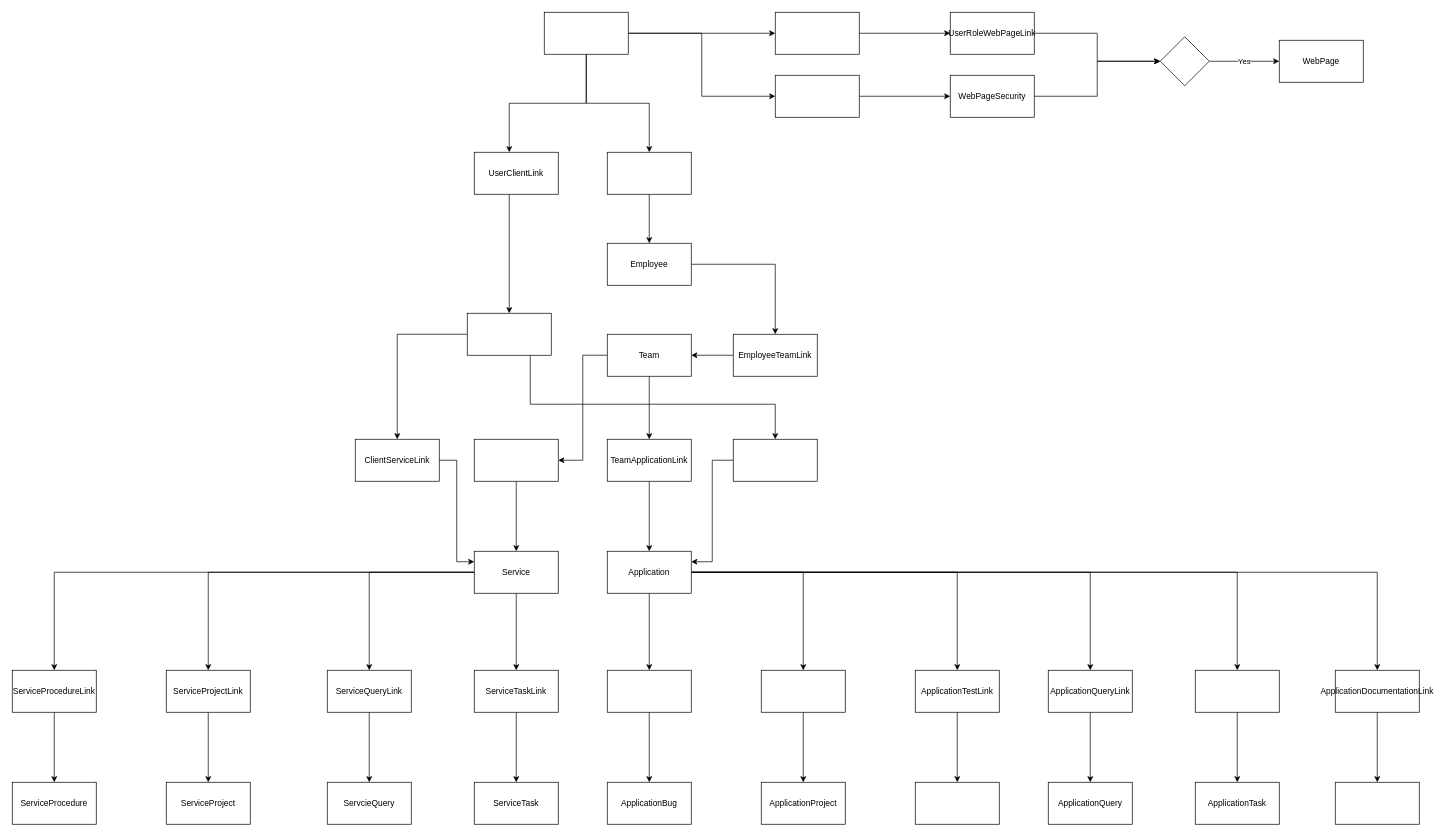
This 1446x837 diagram has some shape labels left out. The centre of each missing label's shape, as x and y in pixels:
ApplicationBugLink: point (649, 691)
ApplicationDocumentation: point (1377, 803)
ApplicationProjectLink: point (803, 691)
ApplicationTaskLink: point (1237, 691)
ApplicationTest: point (957, 803)
Can Access Both: point (1184, 61)
Client: point (509, 334)
Client Application Link: point (775, 460)
TeamServiceLink: point (516, 460)
User: point (586, 33)
User Group (Security of fields, etc but also can pevent window sec): point (817, 96)
User Role (Accessibility to functionalities): point (817, 33)
UserEmployeeLink: point (649, 173)
